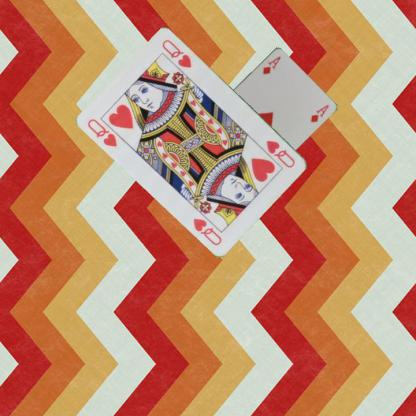Ad: (260, 53, 282, 75)
Qh: (85, 116, 119, 149), (264, 138, 297, 170)
